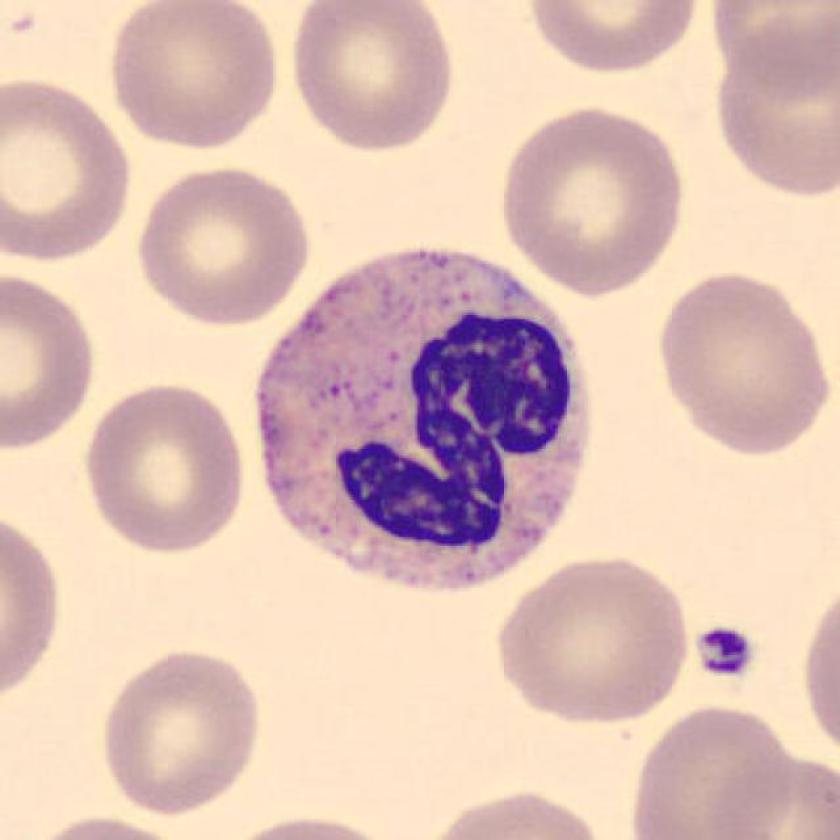neutrophil: (258, 252, 588, 593)
